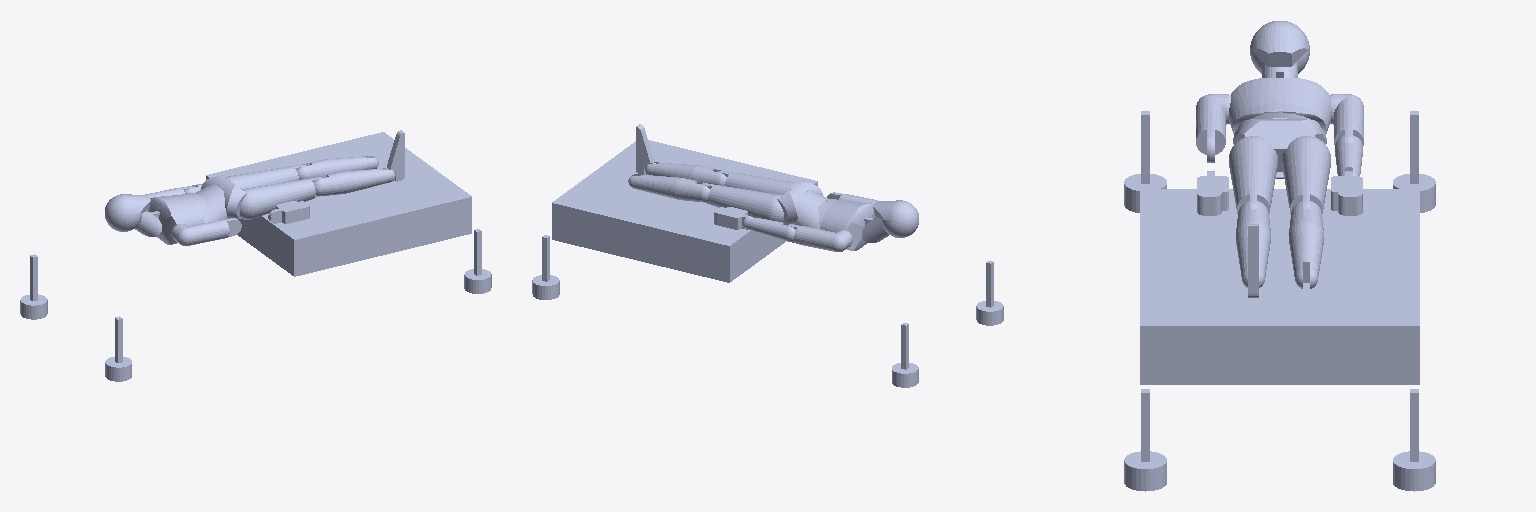
--- Render facts (derived) ---
3 views of the same robot in one strip: view 1: azimuth 30°, elevation 25°; view 2: azimuth 150°, elevation 25°; view 3: azimuth 270°, elevation 25° (orthographic).
Model bed_and_body_v3 with 26 links and 25 joints (20 revolute, 3 prismatic, 2 fixed), rooted at base_link, posed every joint at zero.
Visible links, largest first — view 1: leg_rest_lower_link, leg_rest_upper_link, base_link, quad_right_link, upper_body_link, calf_right_link, head_link, arm_right_link, calf_left_link, quad_left_link, lower_body_link, mid_body_link (+2 smaller); view 2: leg_rest_lower_link, leg_rest_upper_link, base_link, upper_body_link, quad_left_link, calf_left_link, head_link, arm_left_link, calf_right_link, quad_right_link, forearm_left_link, lower_body_link (+3 smaller); view 3: leg_rest_lower_link, leg_rest_upper_link, base_link, upper_body_link, quad_left_link, quad_right_link, calf_left_link, head_link, lower_body_link, arm_right_link, calf_right_link, arm_left_link (+4 smaller).
Boxes of the visible links, box(x1,y1,x2,y2) form: leg_rest_lower_link: box(269, 132, 471, 261); leg_rest_upper_link: box(206, 160, 356, 276); base_link: box(20, 229, 491, 381); quad_right_link: box(240, 177, 321, 219); upper_body_link: box(148, 193, 205, 244); calf_right_link: box(314, 168, 395, 195); head_link: box(105, 194, 150, 231); arm_right_link: box(171, 218, 241, 245); calf_left_link: box(297, 156, 378, 179); quad_left_link: box(225, 165, 305, 188); lower_body_link: box(201, 176, 246, 218); mid_body_link: box(196, 184, 227, 222); leg_rest_lower_link: box(552, 140, 755, 267); leg_rest_upper_link: box(667, 166, 817, 282); base_link: box(532, 235, 1003, 387); upper_body_link: box(818, 199, 875, 250); quad_left_link: box(701, 183, 783, 222); calf_left_link: box(628, 174, 709, 202); head_link: box(873, 200, 918, 237); arm_left_link: box(786, 224, 852, 251); calf_right_link: box(645, 162, 726, 185); quad_right_link: box(718, 171, 798, 194); forearm_left_link: box(742, 217, 795, 241); lower_body_link: box(777, 182, 822, 224); leg_rest_lower_link: box(1140, 237, 1419, 384); leg_rest_upper_link: box(1140, 189, 1419, 236); base_link: box(1124, 111, 1435, 491); upper_body_link: box(1228, 78, 1331, 133); quad_left_link: box(1282, 136, 1330, 213); quad_right_link: box(1229, 136, 1277, 213); calf_left_link: box(1289, 201, 1323, 288); head_link: box(1250, 21, 1309, 73); lower_body_link: box(1235, 119, 1324, 171); arm_right_link: box(1196, 94, 1230, 162); calf_right_link: box(1236, 201, 1270, 287); arm_left_link: box(1329, 94, 1363, 145).
Size in the robot's own frame: 2.28 by 1.01 by 0.8073 metres.
18 mesh visuals loaded from 24 distinct referenced files (18 binary STL); not drawn: 6 (reference not matched to a file when rendering).

robot.urdf — bed_and_body_v3:
<robot
  name="bed_and_body_v3">
  <link
    name="base_link">
    <inertial>
      <origin
        xyz="1.07 -1.1433776843867E-16 0.0654891108010717"
        rpy="0 0 0" />
      <mass
        value="5.8260172808288" />
      <inertia
        ixx="1.14927006759014"
        ixy="4.44089209850063E-16"
        ixz="-2.75515108570424E-16"
        iyy="6.70434113225239"
        iyz="-1.34851165646458E-15"
        izz="7.79754704731756" />
    </inertial>
    <visual>
      <origin
        xyz="0 0 0"
        rpy="0 0 0" />
      <geometry>
        <mesh
          filename="package://hrl_base_selection/urdf/bed_and_body_v3/meshes/base_link.STL" />
      </geometry>
      <material
        name="">
        <color
          rgba="0.792156862745098 0.819607843137255 0.933333333333333 1" />
      </material>
    </visual>
    <collision>
      <origin
        xyz="0 0 0"
        rpy="0 0 0" />
      <geometry>
        <mesh
          filename="package://hrl_base_selection/urdf/bed_and_body_v3/meshes/base_link.STL" />
      </geometry>
    </collision>
  </link>
  <link
    name="wall_link">
    <inertial>
      <origin
        xyz="0. 0. 0."
        rpy="0 0 0" />
      <mass
        value="182.783" />
      <inertia
        ixx="14.1727036705024"
        ixy="3.00274731894519E-14"
        ixz="-0.582878793213973"
        iyy="75.8057802285568"
        iyz="9.93663151183257E-16"
        izz="86.6905817538877" />
    </inertial>
    <visual>
      <origin
        xyz="0 0 0"
        rpy="0 0 0" />
      <geometry>
        <mesh
          filename="package://hrl_base_selection/urdf/bed_and_body_v3/meshes/wall.STL" />
      </geometry>
      <material
        name="">
        <color
          rgba="0.792156862745098 0.819607843137255 0.933333333333333 1" />
      </material>
    </visual>
    <collision>
      <origin
        xyz="0 0 0"
        rpy="0 0 0" />
      <geometry>
        <mesh
          filename="package://hrl_base_selection/urdf/bed_and_body_v3/meshes/wall.STL" />
      </geometry>
    </collision>
  </link>
  <joint
    name="origin_wall_joint"
    type="fixed">
    <origin
      xyz="-0.75 0. 0."
      rpy="0 0 0" />
    <parent
      link="base_link" />
    <child
      link="wall_link" />
    <axis
      xyz="0 0 0" />
  </joint>
  <link
    name="bed_frame_link">
    <inertial>
      <origin
        xyz="1.0399 -0.27375 0.088166"
        rpy="0 0 0" />
      <mass
        value="182.783" />
      <inertia
        ixx="14.1727036705024"
        ixy="3.00274731894519E-14"
        ixz="-0.582878793213973"
        iyy="75.8057802285568"
        iyz="9.93663151183257E-16"
        izz="86.6905817538877" />
    </inertial>
    <visual>
      <origin
        xyz="0 0 0"
        rpy="0 0 0" />
      <geometry>
        <mesh
          filename="package://hrl_base_selection/urdf/bed_and_body_v3/meshes/bed_frame_link.STL" />
      </geometry>
      <material
        name="">
        <color
          rgba="0.792156862745098 0.819607843137255 0.933333333333333 1" />
      </material>
    </visual>
    <collision>
      <origin
        xyz="0 0 0"
        rpy="0 0 0" />
      <geometry>
        <mesh
          filename="package://hrl_base_selection/urdf/bed_and_body_v3/meshes/bed_frame_link.STL" />
      </geometry>
    </collision>
  </link>
  <joint
    name="tele_legs_joint"
    type="prismatic">
    <origin
      xyz="-0.02 .27375 0.2805"
      rpy="0 0 0" />
    <parent
      link="base_link" />
    <child
      link="bed_frame_link" />
    <axis
      xyz="0 0 1" />
    <limit
      lower="-1"
      upper="1"
      effort="0"
      velocity="0" />
  </joint>
  <link
    name="head_rest_link">
    <inertial>
      <origin
        xyz="0.372569569871449 -0.0933538492374752 -3.9665323774659E-16"
        rpy="0 0 0" />
      <mass
        value="152.153755040103" />
      <inertia
        ixx="11.3335835372931"
        ixy="0.223420816611719"
        ixz="-1.53371591687193E-15"
        iyy="16.9421346103201"
        iyz="-3.30400962622086E-15"
        izz="7.04456355370477" />
    </inertial>
    <visual>
      <origin
        xyz="0 0 0"
        rpy="0 0 0" />
      <geometry>
        <mesh
          filename="package://hrl_base_selection/urdf/bed_and_body_v3/meshes/head_rest_link.STL" />
      </geometry>
      <material
        name="">
        <color
          rgba="0.792156862745098 0.819607843137255 0.933333333333333 1" />
      </material>
    </visual>
    <collision>
      <origin
        xyz="0 0 0"
        rpy="0 0 0" />
      <geometry>
        <mesh
          filename="package://hrl_base_selection/urdf/bed_and_body_v3/meshes/head_rest_link.STL" />
      </geometry>
    </collision>
  </link>
  <joint
    name="head_rest_hinge"
    type="revolute">
    <origin
      xyz="0.775 -.27375 0.26"
      rpy="1.5708 1.0561E-10 3.1416" />
    <parent
      link="bed_frame_link" />
    <child
      link="head_rest_link" />
    <axis
      xyz="0 0 1" />
    <limit
      lower="-2"
      upper="2"
      effort="0"
      velocity="0" />
  </joint>
  <link
    name="head_updown_translation_link">
    <inertial>
      <origin
        xyz="0.102906766161206 -9.91266292424373E-09 -0.0297782124304694"
        rpy="0 0 0" />
      <mass
        value="3.9328527892651" />
      <inertia
        ixx="0.0179544834914724"
        ixy="-5.43457600009831E-10"
        ixz="-0.00240657860486129"
        iyy="0.0177023015774365"
        iyz="-5.46748238349167E-09"
        izz="0.0152180232656692" />
    </inertial>
  </link>
  <joint
    name="head_bed_updown_joint"
    type="prismatic">
    <origin
      xyz="0.49949 0.05 0"
      rpy="1.5708 -2.9674E-16 1.5708" />
    <parent
      link="head_rest_link" />
    <child
      link="head_updown_translation_link" />
    <axis
      xyz="0 0 -1" />
    <limit
      lower="-2"
      upper="2"
      effort="0"
      velocity="0" />
  </joint>
  <link
    name="head_leftright_translation_link">
    <inertial>
      <origin
        xyz="0.102906766161206 0.0297782124304694 -9.912662920814E-09"
        rpy="0 0 0" />
      <mass
        value="3.9328527892651" />
      <inertia
        ixx="0.0179544834914724"
        ixy="0.00240657860486129"
        ixz="-5.43457600415785E-10"
        iyy="0.0152180232656692"
        iyz="5.46748238053038E-09"
        izz="0.0177023015774365" />
    </inertial>
  </link>
  <joint
    name="head_bed_leftright_joint"
    type="prismatic">
    <origin
      xyz="0 0 0"
      rpy="-1.5708 -1.0548E-16 7.5835E-18" />
    <parent
      link="head_updown_translation_link" />
    <child
      link="head_leftright_translation_link" />
    <axis
      xyz="0 0 1" />
    <limit
      lower="-2"
      upper="2"
      effort="0"
      velocity="0" />
  </joint>
  <link
    name="head_link">
    <inertial>
      <origin
        xyz="0.00931747164111318 -9.91266701204326E-09 0.0105706865051194"
        rpy="0 0 0" />
      <mass
        value="3.9328527892651" />
      <inertia
        ixx="0.0165678861121358"
        ixy="8.90148620513218E-10"
        ixz="-0.0027682732644648"
        iyy="0.0177023015774365"
        iyz="-5.42183952528328E-09"
        izz="0.0166046206450058" />
    </inertial>
    <visual>
      <origin
        xyz="0 0 0"
        rpy="0 0 0" />
      <geometry>
        <mesh
          filename="package://hrl_base_selection/urdf/bed_and_body_v3/meshes/head_link.STL" />
      </geometry>
      <material
        name="">
        <color
          rgba="0.792156862745098 0.819607843137255 0.933333333333333 1" />
      </material>
    </visual>
    <collision>
      <origin
        xyz="0 0 0"
        rpy="0 0 0" />
      <geometry>
        <mesh
          filename="package://hrl_base_selection/urdf/bed_and_body_v3/meshes/head_link.STL" />
      </geometry>
    </collision>
  </link>
  <joint
    name="head_contact_to_head_center"
    type="fixed">
    <origin
      xyz="0.091171 0.037577 0"
      rpy="1.5708 -3.0499E-16 0.2618" />
    <parent
      link="head_leftright_translation_link" />
    <child
      link="head_link" />
    <axis
      xyz="0 0 0" />
  </joint>
  <link
    name="neck_rotation">
    <inertial>
      <origin
        xyz="0.0299911113671753 -1.13479703411912E-09 5.25989263663437E-09"
        rpy="0 0 0" />
      <mass
        value="1.53148702191926" />
      <inertia
        ixx="0.00269322706497261"
        ixy="1.09857620830128E-10"
        ixz="7.58048241070777E-10"
        iyy="0.00564516811473134"
        iyz="9.21844170034423E-09"
        izz="0.00511128582091916" />
    </inertial>
    <visual>
      <origin
        xyz="0 0 0"
        rpy="0 0 0" />
      <geometry>
        <mesh
          filename="package://hrl_base_selection/urdf/bed_and_body_v3/meshes/neck_rotation.STL" />
      </geometry>
      <material
        name="">
        <color
          rgba="0.792156862745098 0.819607843137255 0.933333333333333 1" />
      </material>
    </visual>
    <collision>
      <origin
        xyz="0 0 0"
        rpy="0 0 0" />
      <geometry>
        <mesh
          filename="package://hrl_base_selection/urdf/bed_and_body_v3/meshes/neck_rotation.STL" />
      </geometry>
    </collision>
  </link>
  <joint
    name="head_neck_joint1"
    type="revolute">
    <origin
      xyz="-0.0254 0 -0.08509"
      rpy="-1.5708 1.1345 -3.1416" />
    <parent
      link="head_link" />
    <child
      link="neck_rotation" />
    <axis
      xyz="0 0 1" />
    <limit
      lower="-2"
      upper="2"
      effort="0"
      velocity="0" />
  </joint>
  <link
    name="neck_link">
    <inertial>
      <origin
        xyz="0.0299911113671752 -1.13479703411912E-09 5.2598925958448E-09"
        rpy="0 0 0" />
      <mass
        value="1.53148702191926" />
      <inertia
        ixx="0.00269322706497261"
        ixy="1.09857618011203E-10"
        ixz="7.58048239319453E-10"
        iyy="0.00564516811473135"
        iyz="9.2184417026311E-09"
        izz="0.00511128582091917" />
    </inertial>
    <visual>
      <origin
        xyz="0 0 0"
        rpy="0 0 0" />
      <geometry>
        <mesh
          filename="package://hrl_base_selection/urdf/bed_and_body_v3/meshes/neck_link.STL" />
      </geometry>
      <material
        name="">
        <color
          rgba="0.792156862745098 0.819607843137255 0.933333333333333 1" />
      </material>
    </visual>
    <collision>
      <origin
        xyz="0 0 0"
        rpy="0 0 0" />
      <geometry>
        <mesh
          filename="package://hrl_base_selection/urdf/bed_and_body_v3/meshes/neck_link.STL" />
      </geometry>
    </collision>
  </link>
  <joint
    name="head_neck_joint2"
    type="revolute">
    <origin
      xyz="0 0 0"
      rpy="0 3.1554E-30 0" />
    <parent
      link="neck_rotation" />
    <child
      link="neck_link" />
    <axis
      xyz="0 0 1" />
    <limit
      lower="-2"
      upper="2"
      effort="0"
      velocity="0" />
  </joint>
  <link
    name="upper_body_link">
    <inertial>
      <origin
        xyz="0.158709266111028 -2.77439784790445E-06 1.07349517852832E-06"
        rpy="0 0 0" />
      <mass
        value="10.994324812456" />
      <inertia
        ixx="0.0988263493770442"
        ixy="1.38503182626169E-06"
        ixz="-6.9051458787949E-07"
        iyy="0.107887273916327"
        iyz="1.87457468166473E-07"
        izz="0.0771158536159493" />
    </inertial>
    <visual>
      <origin
        xyz="0 0 0"
        rpy="0 0 0" />
      <geometry>
        <mesh
          filename="package://hrl_base_selection/urdf/bed_and_body_v3/meshes/upper_body_link.STL" />
      </geometry>
      <material
        name="">
        <color
          rgba="0.792156862745098 0.819607843137255 0.933333333333333 1" />
      </material>
    </visual>
    <collision>
      <origin
        xyz="0 0 0"
        rpy="0 0 0" />
      <geometry>
        <mesh
          filename="package://hrl_base_selection/urdf/bed_and_body_v3/meshes/upper_body_link.STL" />
      </geometry>
    </collision>
  </link>
  <joint
    name="neck_body_joint"
    type="revolute">
    <origin
      xyz="0.07239 0 0"
      rpy="-8.8242E-17 -8.2927E-14 0.66506" />
    <parent
      link="neck_link" />
    <child
      link="upper_body_link" />
    <axis
      xyz="0 0 -1" />
    <limit
      lower="-2"
      upper="2"
      effort="0"
      velocity="0" />
  </joint>
  <link
    name="mid_body_link">
    <inertial>
      <origin
        xyz="-0.0123598486303793 -2.47973091949127E-07 4.77082923404006E-06"
        rpy="0 0 0" />
      <mass
        value="6.7659491084038" />
      <inertia
        ixx="0.0508733259634872"
        ixy="-3.30920427328747E-07"
        ixz="-1.38996093328425E-06"
        iyy="0.0489774373986986"
        iyz="-1.12269337166179E-05"
        izz="0.0317417004953391" />
    </inertial>
    <visual>
      <origin
        xyz="0 0 0"
        rpy="0 0 0" />
      <geometry>
        <mesh
          filename="package://hrl_base_selection/urdf/bed_and_body_v3/meshes/mid_body_link.STL" />
      </geometry>
      <material
        name="">
        <color
          rgba="0.792156862745098 0.819607843137255 0.933333333333333 1" />
      </material>
    </visual>
    <collision>
      <origin
        xyz="0 0 0"
        rpy="0 0 0" />
      <geometry>
        <mesh
          filename="package://hrl_base_selection/urdf/bed_and_body_v3/meshes/mid_body_link.STL" />
      </geometry>
    </collision>
  </link>
  <joint
    name="upper_mid_body_joint"
    type="revolute">
    <origin
      xyz="0.35052 0 0"
      rpy="2.8327E-14 7.7949E-14 0.34907" />
    <parent
      link="upper_body_link" />
    <child
      link="mid_body_link" />
    <axis
      xyz="0 0 -1" />
    <limit
      lower="-2"
      upper="2"
      effort="0"
      velocity="0" />
  </joint>
  <link
    name="lower_body_link">
    <inertial>
      <origin
        xyz="-0.0424892964347593 -1.55212564689755E-07 -3.05517167826124E-08"
        rpy="0 0 0" />
      <mass
        value="3.76095443118537" />
      <inertia
        ixx="0.0264188029132303"
        ixy="5.26534020954018E-07"
        ixz="1.13275130192356E-08"
        iyy="0.021880217675706"
        iyz="6.6476429005472E-06"
        izz="0.0115760285735275" />
    </inertial>
    <visual>
      <origin
        xyz="0 0 0"
        rpy="0 0 0" />
      <geometry>
        <mesh
          filename="package://hrl_base_selection/urdf/bed_and_body_v3/meshes/lower_body_link.STL" />
      </geometry>
      <material
        name="">
        <color
          rgba="0.792156862745098 0.819607843137255 0.933333333333333 1" />
      </material>
    </visual>
    <collision>
      <origin
        xyz="0 0 0"
        rpy="0 0 0" />
      <geometry>
        <mesh
          filename="package://hrl_base_selection/urdf/bed_and_body_v3/meshes/lower_body_link.STL" />
      </geometry>
    </collision>
  </link>
  <joint
    name="mid_lower_body_joint"
    type="revolute">
    <origin
      xyz="0.15113 0 0"
      rpy="-4.3091E-16 1.669E-15 -0.57779" />
    <parent
      link="mid_body_link" />
    <child
      link="lower_body_link" />
    <axis
      xyz="0 0 -1" />
    <limit
      lower="-2"
      upper="2"
      effort="0"
      velocity="0" />
  </joint>
  <link
    name="quad_left_link">
    <inertial>
      <origin
        xyz="0.135870836223123 0.036406480838746 1.20320420293751E-14"
        rpy="0 0 0" />
      <mass
        value="6.89674952703915" />
      <inertia
        ixx="0.0241142535313263"
        ixy="0.0272592576621165"
        ixz="-8.25751406148771E-11"
        iyy="0.118543092031703"
        iyz="3.08210707771496E-10"
        izz="0.126021276865764" />
    </inertial>
    <visual>
      <origin
        xyz="0 0 0"
        rpy="0 0 0" />
      <geometry>
        <mesh
          filename="package://hrl_base_selection/urdf/bed_and_body_v3/meshes/quad_left_link.STL" />
      </geometry>
      <material
        name="">
        <color
          rgba="0.792156862745098 0.819607843137255 0.933333333333333 1" />
      </material>
    </visual>
    <collision>
      <origin
        xyz="0 0 0"
        rpy="0 0 0" />
      <geometry>
        <mesh
          filename="package://hrl_base_selection/urdf/bed_and_body_v3/meshes/quad_left_link.STL" />
      </geometry>
    </collision>
  </link>
  <joint
    name="body_quad_left_joint"
    type="revolute">
    <origin
      xyz="0.05207 0 -0.08636"
      rpy="-3.1554E-30 -3.1554E-30 -2.7756E-17" />
    <parent
      link="lower_body_link" />
    <child
      link="quad_left_link" />
    <axis
      xyz="0 0 1" />
    <limit
      lower="-3."
      upper="3."
      effort="0"
      velocity="0" />
  </joint>
  <link
    name="calf_left_link">
    <inertial>
      <origin
        xyz="-0.180906642816524 -0.0139713255979246 1.60067792354113E-12"
        rpy="0 0 0" />
      <mass
        value="3.39536669784164" />
      <inertia
        ixx="0.0049226177583511"
        ixy="0.00333413184068126"
        ixz="1.26232091450053E-12"
        iyy="0.0478368760783845"
        iyz="-4.13932285075363E-12"
        izz="0.0478732548846709" />
    </inertial>
    <visual>
      <origin
        xyz="0 0 0"
        rpy="0 0 0" />
      <geometry>
        <mesh
          filename="package://hrl_base_selection/urdf/bed_and_body_v3/meshes/calf_left_link.STL" />
      </geometry>
      <material
        name="">
        <color
          rgba="0.792156862745098 0.819607843137255 0.933333333333333 1" />
      </material>
    </visual>
    <collision>
      <origin
        xyz="0 0 0"
        rpy="0 0 0" />
      <geometry>
        <mesh
          filename="package://hrl_base_selection/urdf/bed_and_body_v3/meshes/calf_left_link.STL" />
      </geometry>
    </collision>
  </link>
  <joint
    name="quad_calf_left_joint"
    type="revolute">
    <origin
      xyz="0.41218 0.11044 0"
      rpy="3.1416 8.5469E-14 -2.8798" />
    <parent
      link="quad_left_link" />
    <child
      link="calf_left_link" />
    <axis
      xyz="0 0 1" />
    <limit
      lower="-3."
      upper="3."
      effort="0"
      velocity="0" />
  </joint>
  <link
    name="foot_left_link">
    <inertial>
      <origin
        xyz="-0.0475610965067932 0.0816676483447464 -4.16333634234434E-17"
        rpy="0 0 0" />
      <mass
        value="0.615189243278472" />
      <inertia
        ixx="0.00304936402573348"
        ixy="-0.000154899374275574"
        ixz="1.7446046542978E-19"
        iyy="0.000412328810634253"
        iyz="-3.97105362266834E-20"
        izz="0.00332455031530266" />
    </inertial>
    <visual>
      <origin
        xyz="0 0 0"
        rpy="0 0 0" />
      <geometry>
        <mesh
          filename="package://hrl_base_selection/urdf/bed_and_body_v3/meshes/foot_left_link.STL" />
      </geometry>
      <material
        name="">
        <color
          rgba="0.792156862745098 0.819607843137255 0.933333333333333 1" />
      </material>
    </visual>
    <collision>
      <origin
        xyz="0 0 0"
        rpy="0 0 0" />
      <geometry>
        <mesh
          filename="package://hrl_base_selection/urdf/bed_and_body_v3/meshes/foot_left_link.STL" />
      </geometry>
    </collision>
  </link>
  <joint
    name="calf_foot_left_joint"
    type="revolute">
    <origin
      xyz="-0.41279 -0.03188 0"
      rpy="2.4608E-16 9.411E-16 0.077076" />
    <parent
      link="calf_left_link" />
    <child
      link="foot_left_link" />
    <axis
      xyz="0 0 1" />
    <limit
      lower="-3."
      upper="3."
      effort="0"
      velocity="0" />
  </joint>
  <link
    name="quad_right_link">
    <inertial>
      <origin
        xyz="0.13587083622245 0.0364064808391208 1.19904086659517E-14"
        rpy="0 0 0" />
      <mass
        value="6.89674952703915" />
      <inertia
        ixx="0.024114253531194"
        ixy="0.0272592576618873"
        ixz="-8.2575179988774E-11"
        iyy="0.118543092031835"
        iyz="3.08210697239393E-10"
        izz="0.126021276865764" />
    </inertial>
    <visual>
      <origin
        xyz="0 0 0"
        rpy="0 0 0" />
      <geometry>
        <mesh
          filename="package://hrl_base_selection/urdf/bed_and_body_v3/meshes/quad_right_link.STL" />
      </geometry>
      <material
        name="">
        <color
          rgba="0.792156862745098 0.819607843137255 0.933333333333333 1" />
      </material>
    </visual>
    <collision>
      <origin
        xyz="0 0 0"
        rpy="0 0 0" />
      <geometry>
        <mesh
          filename="package://hrl_base_selection/urdf/bed_and_body_v3/meshes/quad_right_link.STL" />
      </geometry>
    </collision>
  </link>
  <joint
    name="body_quad_right_joint"
    type="revolute">
    <origin
      xyz="0.05207 0 0.08636"
      rpy="-3.1554E-30 -3.1554E-30 -2.7756E-17" />
    <parent
      link="lower_body_link" />
    <child
      link="quad_right_link" />
    <axis
      xyz="0 0 1" />
    <limit
      lower="-3"
      upper="3"
      effort="0"
      velocity="0" />
  </joint>
  <link
    name="calf_right_link">
    <inertial>
      <origin
        xyz="-0.180906642816537 -0.0139713255970793 1.60067792354113E-12"
        rpy="0 0 0" />
      <mass
        value="3.39536669784164" />
      <inertia
        ixx="0.00492261775832246"
        ixy="0.00333413184049699"
        ixz="1.26236389002121E-12"
        iyy="0.0478368760784132"
        iyz="-4.13931941107381E-12"
        izz="0.0478732548846708" />
    </inertial>
    <visual>
      <origin
        xyz="0 0 0"
        rpy="0 0 0" />
      <geometry>
        <mesh
          filename="package://hrl_base_selection/urdf/bed_and_body_v3/meshes/calf_right_link.STL" />
      </geometry>
      <material
        name="">
        <color
          rgba="0.792156862745098 0.819607843137255 0.933333333333333 1" />
      </material>
    </visual>
    <collision>
      <origin
        xyz="0 0 0"
        rpy="0 0 0" />
      <geometry>
        <mesh
          filename="package://hrl_base_selection/urdf/bed_and_body_v3/meshes/calf_right_link.STL" />
      </geometry>
    </collision>
  </link>
  <joint
    name="quad_calf_right_joint"
    type="revolute">
    <origin
      xyz="0.41218 0.11044 0"
      rpy="3.1416 8.5225E-14 -2.8798" />
    <parent
      link="quad_right_link" />
    <child
      link="calf_right_link" />
    <axis
      xyz="0 0 1" />
    <limit
      lower="-3"
      upper="3"
      effort="0"
      velocity="0" />
  </joint>
  <link
    name="foot_right_link">
    <inertial>
      <origin
        xyz="-0.0475610965067859 0.0816676483447651 1.38777878078145E-17"
        rpy="0 0 0" />
      <mass
        value="0.615189243278473" />
      <inertia
        ixx="0.00304936402573348"
        ixy="-0.000154899374275576"
        ixz="-2.68019252719947E-19"
        iyy="0.000412328810634254"
        iyz="3.53080400658611E-18"
        izz="0.00332455031530267" />
    </inertial>
    <visual>
      <origin
        xyz="0 0 0"
        rpy="0 0 0" />
      <geometry>
        <mesh
          filename="package://hrl_base_selection/urdf/bed_and_body_v3/meshes/foot_right_link.STL" />
      </geometry>
      <material
        name="">
        <color
          rgba="0.792156862745098 0.819607843137255 0.933333333333333 1" />
      </material>
    </visual>
    <collision>
      <origin
        xyz="0 0 0"
        rpy="0 0 0" />
      <geometry>
        <mesh
          filename="package://hrl_base_selection/urdf/bed_and_body_v3/meshes/foot_right_link.STL" />
      </geometry>
    </collision>
  </link>
  <joint
    name="calf_foot_right_joint"
    type="revolute">
    <origin
      xyz="-0.41279 -0.03188 0"
      rpy="3.3137E-27 3.7799E-26 0.077076" />
    <parent
      link="calf_right_link" />
    <child
      link="foot_right_link" />
    <axis
      xyz="0 0 1" />
    <limit
      lower="-3"
      upper="3"
      effort="0"
      velocity="0" />
  </joint>
  <link
    name="arm_left_link">
    <inertial>
      <origin
        xyz="0.1001623892808 -0.00376860746206564 -0.0415301013139193"
        rpy="0 0 0" />
      <mass
        value="2.60960654017703" />
      <inertia
        ixx="0.00404950781774846"
        ixy="-0.000794518553713614"
        ixz="-0.00213077537777598"
        iyy="0.0251366223518226"
        iyz="8.01649819245336E-05"
        izz="0.0243099855919405" />
    </inertial>
    <visual>
      <origin
        xyz="0 0 0"
        rpy="0 0 0" />
      <geometry>
        <mesh
          filename="package://hrl_base_selection/urdf/bed_and_body_v3/meshes/arm_left_link.STL" />
      </geometry>
      <material
        name="">
        <color
          rgba="0.792156862745098 0.819607843137255 0.933333333333333 1" />
      </material>
    </visual>
    <collision>
      <origin
        xyz="0 0 0"
        rpy="0 0 0" />
      <geometry>
        <mesh
          filename="package://hrl_base_selection/urdf/bed_and_body_v3/meshes/arm_left_link.STL" />
      </geometry>
    </collision>
  </link>
  <joint
    name="body_arm_left_joint"
    type="revolute">
    <origin
      xyz="0.09652 0 -0.17526"
      rpy="2.6872E-15 8.287E-14 0.033074" />
    <parent
      link="upper_body_link" />
    <child
      link="arm_left_link" />
    <axis
      xyz="0 0 1" />
    <limit
      lower="-3"
      upper="3"
      effort="0"
      velocity="0" />
  </joint>
  <link
    name="forearm_left_link">
    <inertial>
      <origin
        xyz="0.106228215345525 -1.91191507070698E-12 0"
        rpy="0 0 0" />
      <mass
        value="1.32173737819403" />
      <inertia
        ixx="0.00119534139517087"
        ixy="-1.35159335608086E-13"
        ixz="-5.04149881322934E-19"
        iyy="0.00870475374464507"
        iyz="1.19370114943691E-09"
        izz="0.00856399030741715" />
    </inertial>
    <visual>
      <origin
        xyz="0 0 0"
        rpy="0 0 0" />
      <geometry>
        <mesh
          filename="package://hrl_base_selection/urdf/bed_and_body_v3/meshes/forearm_left_link.STL" />
      </geometry>
      <material
        name="">
        <color
          rgba="0.792156862745098 0.819607843137255 0.933333333333333 1" />
      </material>
    </visual>
    <collision>
      <origin
        xyz="0 0 0"
        rpy="0 0 0" />
      <geometry>
        <mesh
          filename="package://hrl_base_selection/urdf/bed_and_body_v3/meshes/forearm_left_link.STL" />
      </geometry>
    </collision>
  </link>
  <joint
    name="arm_forearm_left_joint"
    type="revolute">
    <origin
      xyz="0.28174 -0.0106 -0.04953"
      rpy="1.1849E-16 -8.3419E-14 -1.6268E-27" />
    <parent
      link="arm_left_link" />
    <child
      link="forearm_left_link" />
    <axis
      xyz="0 0 1" />
    <limit
      lower="-3"
      upper="3"
      effort="0"
      velocity="0" />
  </joint>
  <link
    name="hand_left_link">
    <inertial>
      <origin
        xyz="0.0980143408405634 -1.86517468137026E-12 0.0049795365316434"
        rpy="0 0 0" />
      <mass
        value="1.1356241768054" />
      <inertia
        ixx="0.00131058345181311"
        ixy="-4.85702000140823E-14"
        ixz="-9.6566899557011E-05"
        iyy="0.00386297813592635"
        iyz="1.8376914107142E-15"
        izz="0.00343338240819095" />
    </inertial>
    <visual>
      <origin
        xyz="0 0 0"
        rpy="0 0 0" />
      <geometry>
        <mesh
          filename="package://hrl_base_selection/urdf/bed_and_body_v3/meshes/hand_left_link.STL" />
      </geometry>
      <material
        name="">
        <color
          rgba="0.792156862745098 0.819607843137255 0.933333333333333 1" />
      </material>
    </visual>
    <collision>
      <origin
        xyz="0 0 0"
        rpy="0 0 0" />
      <geometry>
        <mesh
          filename="package://hrl_base_selection/urdf/bed_and_body_v3/meshes/hand_left_link.STL" />
      </geometry>
    </collision>
  </link>
  <joint
    name="forearm_hand_left_joint"
    type="revolute">
    <origin
      xyz="0.25146 0 0"
      rpy="1.3447E-16 8.3999E-14 1.6283E-27" />
    <parent
      link="forearm_left_link" />
    <child
      link="hand_left_link" />
    <axis
      xyz="0 0 1" />
    <limit
      lower="-3"
      upper="3"
      effort="0"
      velocity="0" />
  </joint>
  <link
    name="arm_right_link">
    <inertial>
      <origin
        xyz="0.100233262071747 3.52074113196821E-08 0.041530101413327"
        rpy="0 0 0" />
      <mass
        value="2.60960651501635" />
      <inertia
        ixx="0.00401961437786645"
        ixy="-7.60885930854E-10"
        ixz="0.00213228273829607"
        iyy="0.0251665155968144"
        iyz="-4.35824513311461E-09"
        izz="0.0243099854332681" />
    </inertial>
    <visual>
      <origin
        xyz="0 0 0"
        rpy="0 0 0" />
      <geometry>
        <mesh
          filename="package://hrl_base_selection/urdf/bed_and_body_v3/meshes/arm_right_link.STL" />
      </geometry>
      <material
        name="">
        <color
          rgba="0.792156862745098 0.819607843137255 0.933333333333333 1" />
      </material>
    </visual>
    <collision>
      <origin
        xyz="0 0 0"
        rpy="0 0 0" />
      <geometry>
        <mesh
          filename="package://hrl_base_selection/urdf/bed_and_body_v3/meshes/arm_right_link.STL" />
      </geometry>
    </collision>
  </link>
  <joint
    name="body_arm_right_joint"
    type="revolute">
    <origin
      xyz="0.09652 0 0.17526"
      rpy="-3.0757E-16 8.2843E-14 -0.0045332" />
    <parent
      link="upper_body_link" />
    <child
      link="arm_right_link" />
    <axis
      xyz="0 0 1" />
    <limit
      lower="-3"
      upper="3"
      effort="0"
      velocity="0" />
  </joint>
  <link
    name="forearm_right_link">
    <inertial>
      <origin
        xyz="0.106228216482346 -1.30587407554117E-09 -9.51088152678636E-10"
        rpy="0 0 0" />
      <mass
        value="1.32173736893606" />
      <inertia
        ixx="0.00119534120618663"
        ixy="1.414727832101E-10"
        ixz="1.35038570191339E-10"
        iyy="0.00870475371023631"
        iyz="1.17395654858625E-09"
        izz="0.00856399012619121" />
    </inertial>
    <visual>
      <origin
        xyz="0 0 0"
        rpy="0 0 0" />
      <geometry>
        <mesh
          filename="package://hrl_base_selection/urdf/bed_and_body_v3/meshes/forearm_right_link.STL" />
      </geometry>
      <material
        name="">
        <color
          rgba="0.792156862745098 0.819607843137255 0.933333333333333 1" />
      </material>
    </visual>
    <collision>
      <origin
        xyz="0 0 0"
        rpy="0 0 0" />
      <geometry>
        <mesh
          filename="package://hrl_base_selection/urdf/bed_and_body_v3/meshes/forearm_right_link.STL" />
      </geometry>
    </collision>
  </link>
  <joint
    name="arm_forearm_right_joint"
    type="revolute">
    <origin
      xyz="0.28194 0 0.04953"
      rpy="2.6089E-19 -8.3342E-14 0.037607" />
    <parent
      link="arm_right_link" />
    <child
      link="forearm_right_link" />
    <axis
      xyz="0 0 1" />
    <limit
      lower="-3"
      upper="3"
      effort="0"
      velocity="0" />
  </joint>
  <link
    name="hand_right_link">
    <inertial>
      <origin
        xyz="0.0980143408405629 -2.15505391309989E-12 -0.00497953653164337"
        rpy="0 0 0" />
      <mass
        value="1.13562417680541" />
      <inertia
        ixx="0.00131058345181312"
        ixy="-5.61198127715408E-14"
        ixz="9.65668995570131E-05"
        iyy="0.00386297813592636"
        iyz="-2.12313391417147E-15"
        izz="0.00343338240819096" />
    </inertial>
    <visual>
      <origin
        xyz="0 0 0"
        rpy="0 0 0" />
      <geometry>
        <mesh
          filename="package://hrl_base_selection/urdf/bed_and_body_v3/meshes/hand_right_link.STL" />
      </geometry>
      <material
        name="">
        <color
          rgba="0.792156862745098 0.819607843137255 0.933333333333333 1" />
      </material>
    </visual>
    <collision>
      <origin
        xyz="0 0 0"
        rpy="0 0 0" />
      <geometry>
        <mesh
          filename="package://hrl_base_selection/urdf/bed_and_body_v3/meshes/hand_right_link.STL" />
      </geometry>
    </collision>
  </link>
  <joint
    name="forearm_hand_right_joint"
    type="revolute">
    <origin
      xyz="0.25146 0 0"
      rpy="1.9364E-14 8.3335E-14 1.6151E-27" />
    <parent
      link="forearm_right_link" />
    <child
      link="hand_right_link" />
    <axis
      xyz="0 0 1" />
    <limit
      lower="-3"
      upper="3"
      effort="0"
      velocity="0" />
  </joint>
  <link
    name="leg_rest_upper_link">
    <inertial>
      <origin
        xyz="0.184999999999909 0.105000000000441 -2.76269761501025E-16"
        rpy="0 0 0" />
      <mass
        value="71.0955" />
      <inertia
        ixx="5.221520128125"
        ixy="-6.98374142907244E-13"
        ixz="-6.34687481067045E-16"
        iyy="5.771325328125"
        iyz="-1.36920550145777E-16"
        izz="1.072357125" />
    </inertial>
    <visual>
      <origin
        xyz="0 0 0"
        rpy="0 0 0" />
      <geometry>
        <mesh
          filename="package://hrl_base_selection/urdf/bed_and_body_v3/meshes/leg_rest_upper_link.STL" />
      </geometry>
      <material
        name="">
        <color
          rgba="0.792156862745098 0.819607843137255 0.933333333333333 1" />
      </material>
    </visual>
    <collision>
      <origin
        xyz="0 0 0"
        rpy="0 0 0" />
      <geometry>
        <mesh
          filename="package://hrl_base_selection/urdf/bed_and_body_v3/meshes/leg_rest_upper_link.STL" />
      </geometry>
    </collision>
  </link>
  <joint
    name="leg_rest_upper_joint"
    type="revolute">
    <origin
      xyz="1.055 -0.27375 0.05"
      rpy="1.5708 2.1987E-11 3.9465E-16" />
    <parent
      link="bed_frame_link" />
    <child
      link="leg_rest_upper_link" />
    <axis
      xyz="0 0 1" />
    <limit
      lower="-3"
      upper="3"
      effort="0"
      velocity="0" />
  </joint>
  <link
    name="leg_rest_lower_link">
    <inertial>
      <origin
        xyz="0.345000000000193 0.10499999999918 -5.70451144183548E-17"
        rpy="0 0 0" />
      <mass
        value="132.5835" />
      <inertia
        ixx="9.73742942812501"
        ixy="9.56539519154387E-17"
        ixz="2.44106387255003E-16"
        iyy="14.510435428125"
        iyz="1.11598435800825E-16"
        izz="5.747494725" />
    </inertial>
    <visual>
      <origin
        xyz="0 0 0"
        rpy="0 0 0" />
      <geometry>
        <mesh
          filename="package://hrl_base_selection/urdf/bed_and_body_v3/meshes/leg_rest_lower_link.STL" />
      </geometry>
      <material
        name="">
        <color
          rgba="0.792156862745098 0.819607843137255 0.933333333333333 1" />
      </material>
    </visual>
    <collision>
      <origin
        xyz="0 0 0"
        rpy="0 0 0" />
      <geometry>
        <mesh
          filename="package://hrl_base_selection/urdf/bed_and_body_v3/meshes/leg_rest_lower_link.STL" />
      </geometry>
    </collision>
  </link>
  <joint
    name="leg_rest_upper_lower_joint"
    type="revolute">
    <origin
      xyz="0.37 0 0"
      rpy="-3.7123E-16 5.9121E-16 3.7854E-11" />
    <parent
      link="leg_rest_upper_link" />
    <child
      link="leg_rest_lower_link" />
    <axis
      xyz="0 0 1" />
    <limit
      lower="-3"
      upper="3"
      effort="0"
      velocity="0" />
  </joint>
</robot>
